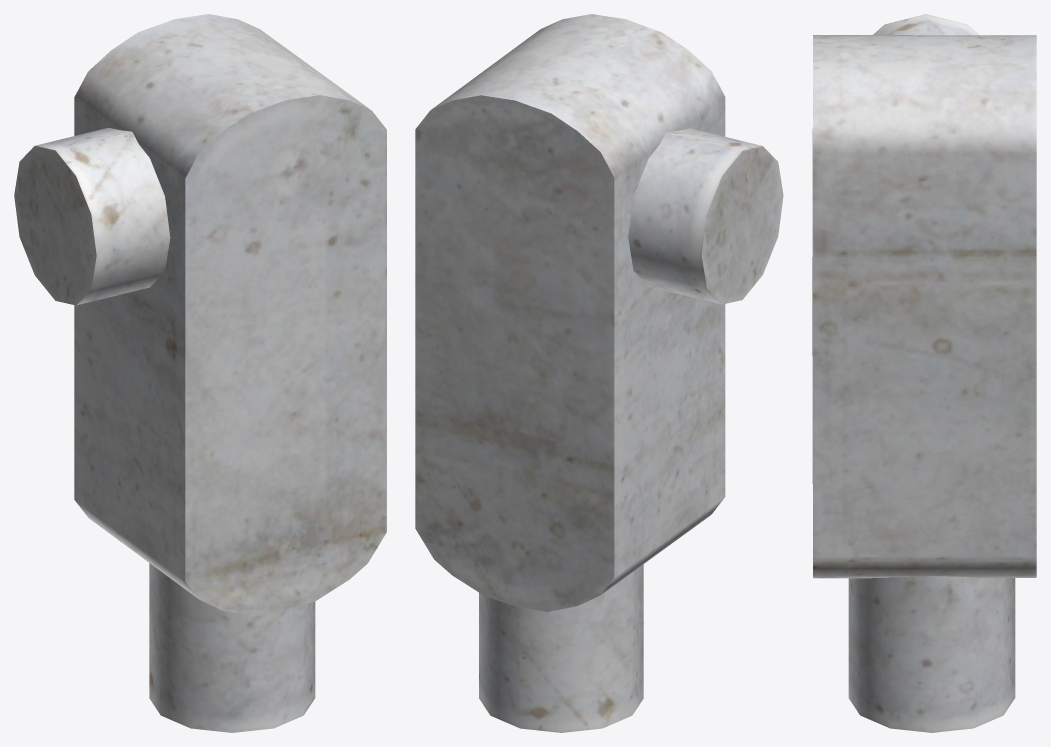
Rendered from SM_Wires_Pipes_01e.glb.
The picture shows the model from 3 angles, left to right: view 1: azimuth 30°, elevation 25°; view 2: azimuth 150°, elevation 25°; view 3: azimuth 270°, elevation 25°; orthographic projection.
Visible parts, largest first — view 1: SM_Wires_Pipes_01e; view 2: SM_Wires_Pipes_01e; view 3: SM_Wires_Pipes_01e.
Part boxes in pixels (bbox=[...]): SM_Wires_Pipes_01e: bbox=[14, 14, 386, 732]; SM_Wires_Pipes_01e: bbox=[415, 14, 783, 732]; SM_Wires_Pipes_01e: bbox=[812, 14, 1036, 732].
Size of the model in its own units: 0.0555 by 0.1239 by 0.0391.
Materials: 1 (1 with a texture image).
